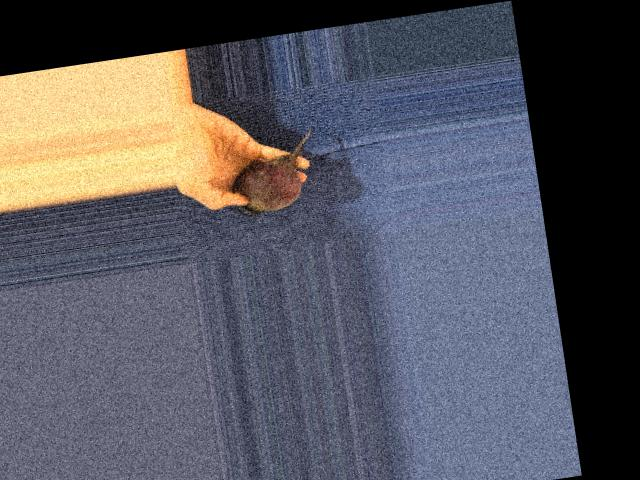beet: (225, 128, 323, 219)
